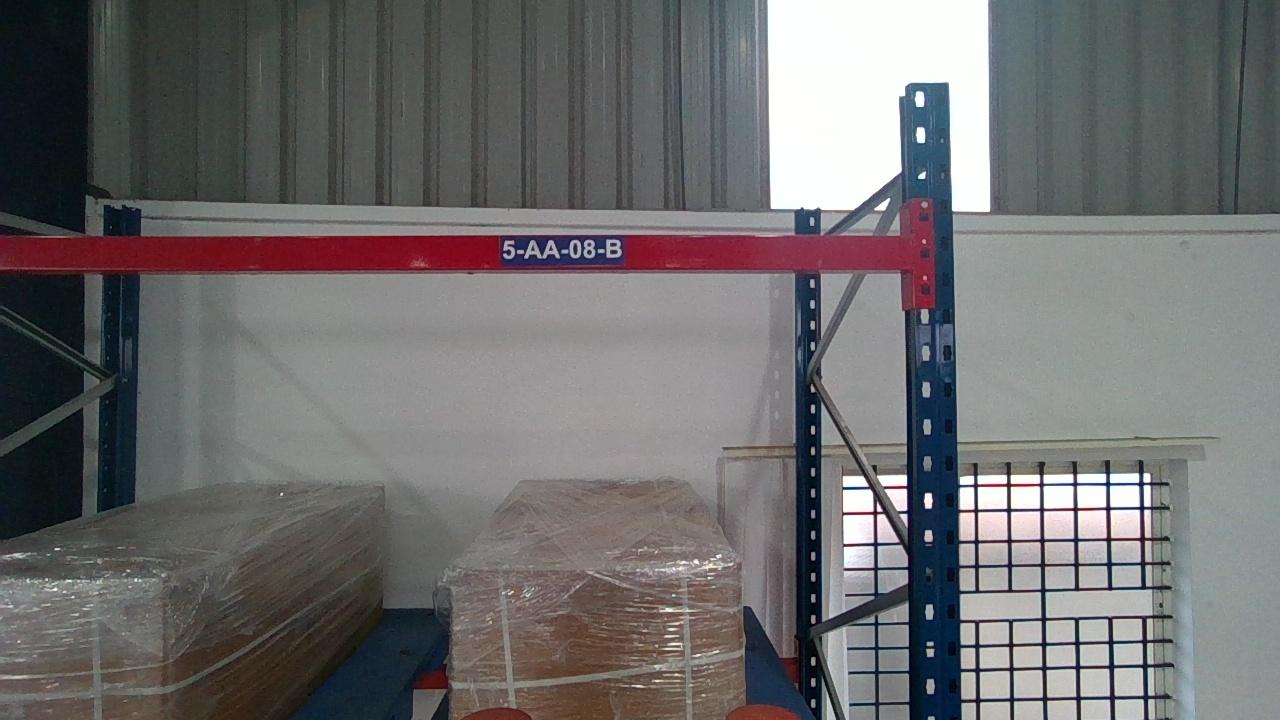h_rack: (1, 231, 907, 272)
